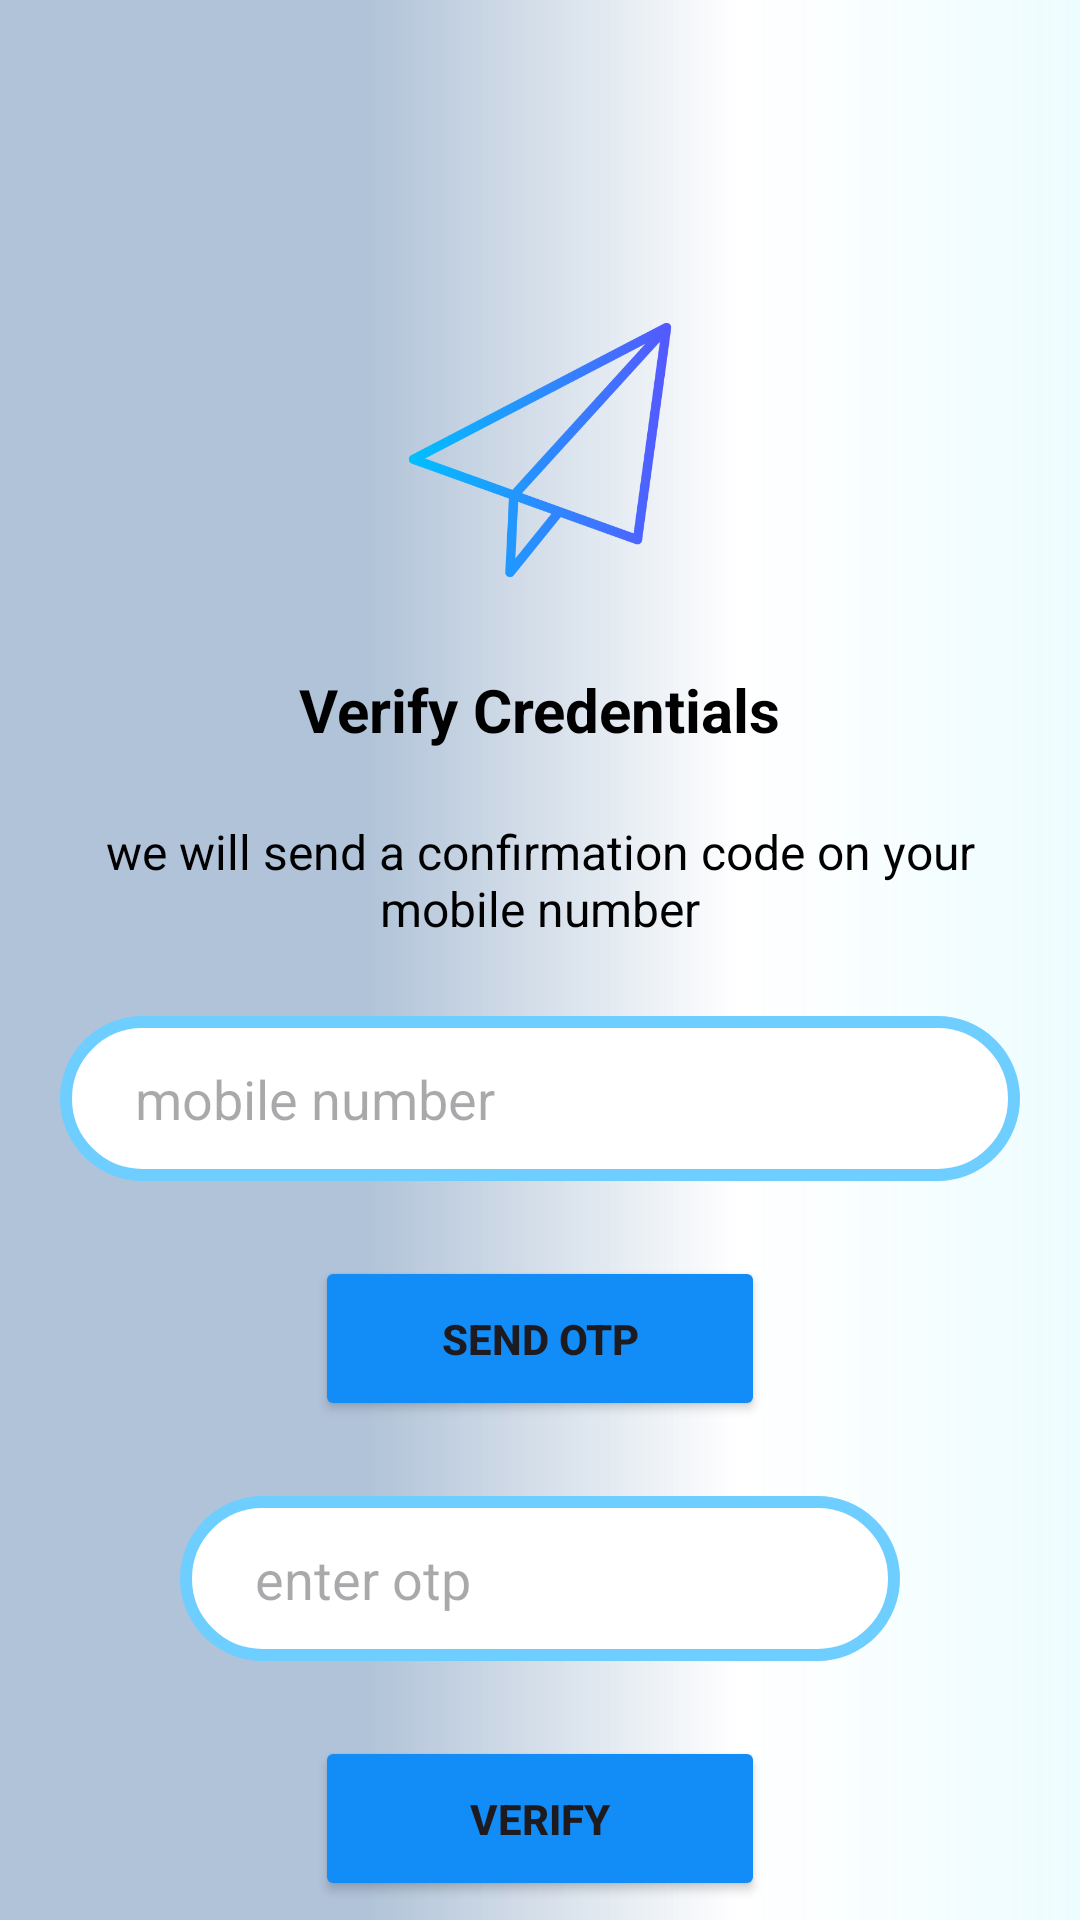

Icons on this 1080 x 1920 Android screen, each with the point to tap as [x,y]:
paper plane: [540,450]
